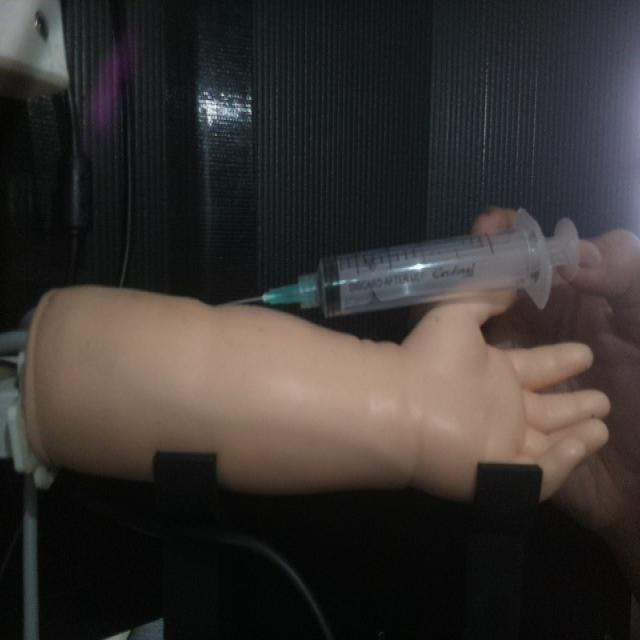Outside: (227, 203, 583, 321)
